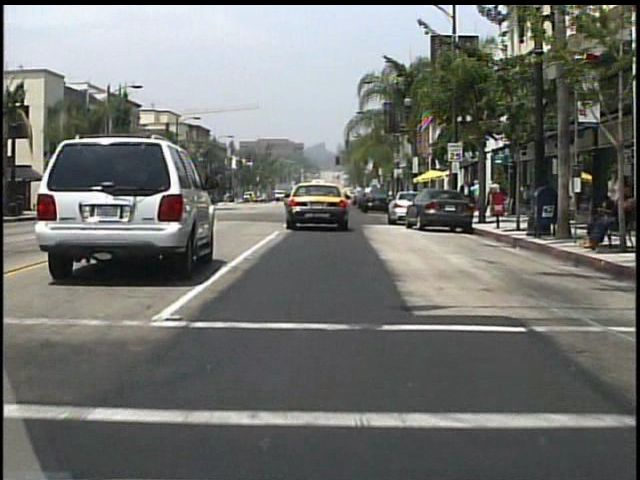person: (576, 195, 620, 253), (458, 179, 474, 219), (492, 183, 505, 218), (474, 179, 486, 216), (485, 184, 497, 217)
